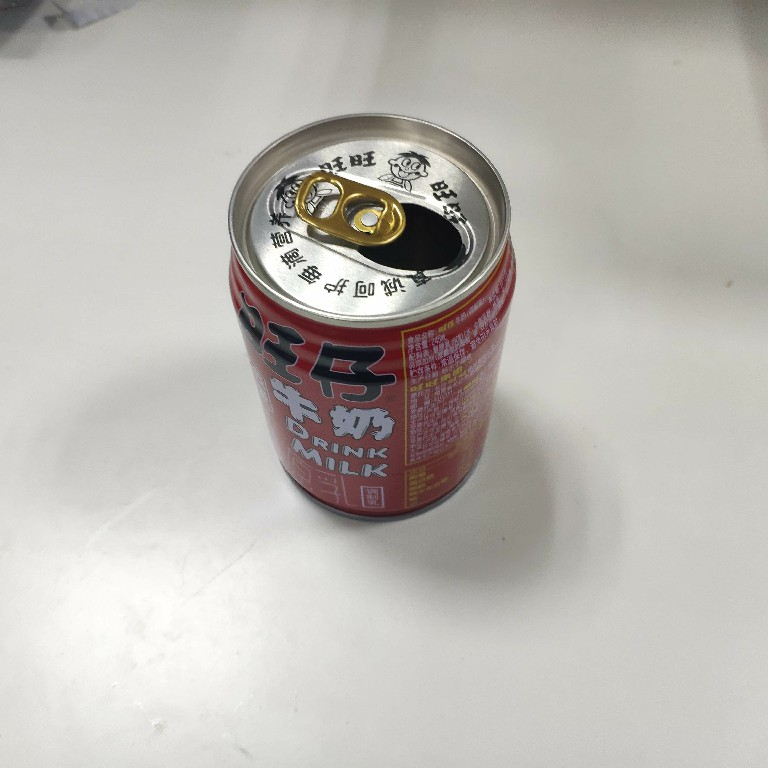can: (217, 107, 519, 526)
